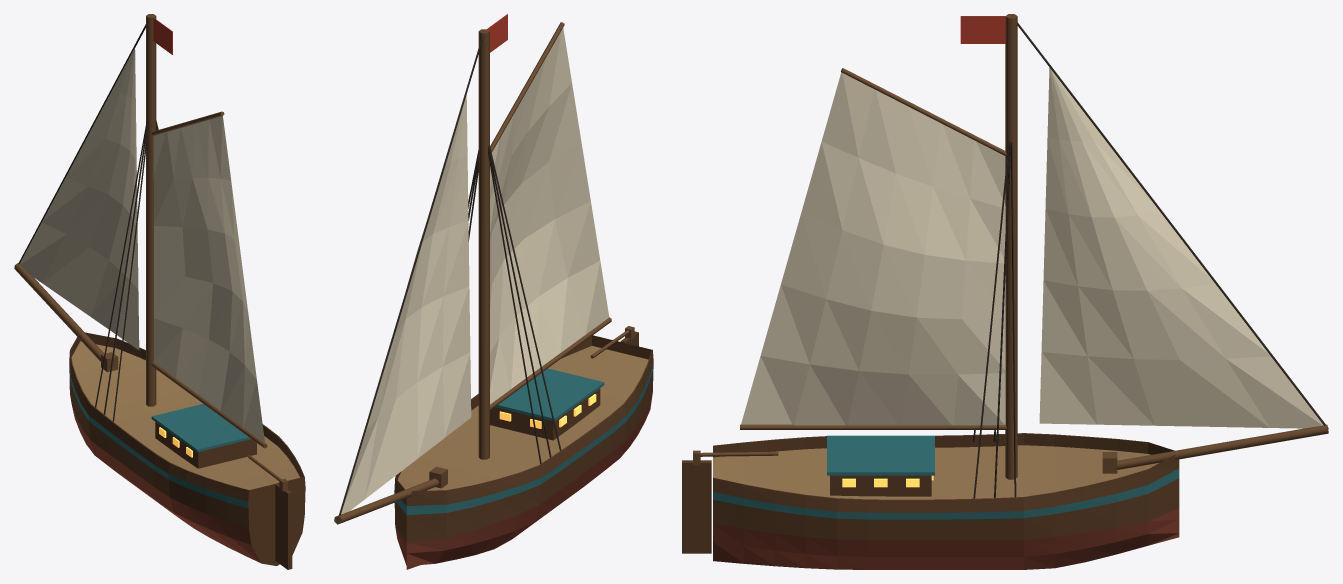
File: sawyer_ship_sloop_set.glb
3 renders of one model, left to right at view 1: azimuth 30°, elevation 25°; view 2: azimuth 150°, elevation 25°; view 3: azimuth 270°, elevation 25°, orthographic. The views are drawn at different scales.
Parts seen in each view (by area): view 1: sail_main0, hull, sail_jib0, mast0, cabin_roof, cabin, rudder, bowsprit, boom0, shroud0_-1_0, shroud0_-1_1, shroud0_-1_-1 (+2 smaller); view 2: sail_main0, hull, sail_jib0, mast0, cabin_roof, cabin, forestay, bowsprit, boom0, gaff0, shroud0_-1_0, shroud0_-1_-1 (+2 smaller); view 3: sail_main0, sail_jib0, hull, mast0, cabin_roof, rudder, bowsprit, cabin, boom0, forestay, flag0, gaff0 (+3 smaller).
Part boxes in pixels (<box>): sail_main0: <box>153,116,264,443</box>; hull: <box>69,332,305,565</box>; sail_jib0: <box>19,48,139,350</box>; mast0: <box>146,14,156,406</box>; cabin_roof: <box>151,404,250,452</box>; cabin: <box>155,422,256,468</box>; rudder: <box>275,483,292,569</box>; bowsprit: <box>14,263,104,361</box>; boom0: <box>151,362,267,448</box>; shroud0_-1_0: <box>103,120,147,414</box>; shroud0_-1_1: <box>112,122,148,421</box>; shroud0_-1_-1: <box>95,120,147,407</box>; sail_main0: <box>490,28,609,404</box>; hull: <box>394,335,653,569</box>; sail_jib0: <box>341,95,471,514</box>; mast0: <box>478,29,489,459</box>; cabin_roof: <box>495,368,604,421</box>; cabin: <box>490,388,600,440</box>; forestay: <box>337,31,484,520</box>; bowsprit: <box>334,478,438,524</box>; boom0: <box>490,317,611,410</box>; gaff0: <box>490,22,564,152</box>; shroud0_-1_0: <box>488,146,551,457</box>; shroud0_-1_-1: <box>488,146,541,463</box>; sail_main0: <box>741,72,1005,425</box>; sail_jib0: <box>1039,67,1323,428</box>; hull: <box>713,433,1179,569</box>; mast0: <box>1005,14,1017,479</box>; cabin_roof: <box>827,435,934,475</box>; rudder: <box>682,460,711,553</box>; bowsprit: <box>1117,424,1328,469</box>; cabin: <box>830,475,931,496</box>; boom0: <box>740,424,1006,429</box>; forestay: <box>1012,15,1328,428</box>; flag0: <box>960,16,1010,43</box>; gaff0: <box>841,68,1006,156</box>.
Size of the model in its own units: 3.71 by 14.16 by 15.25.
